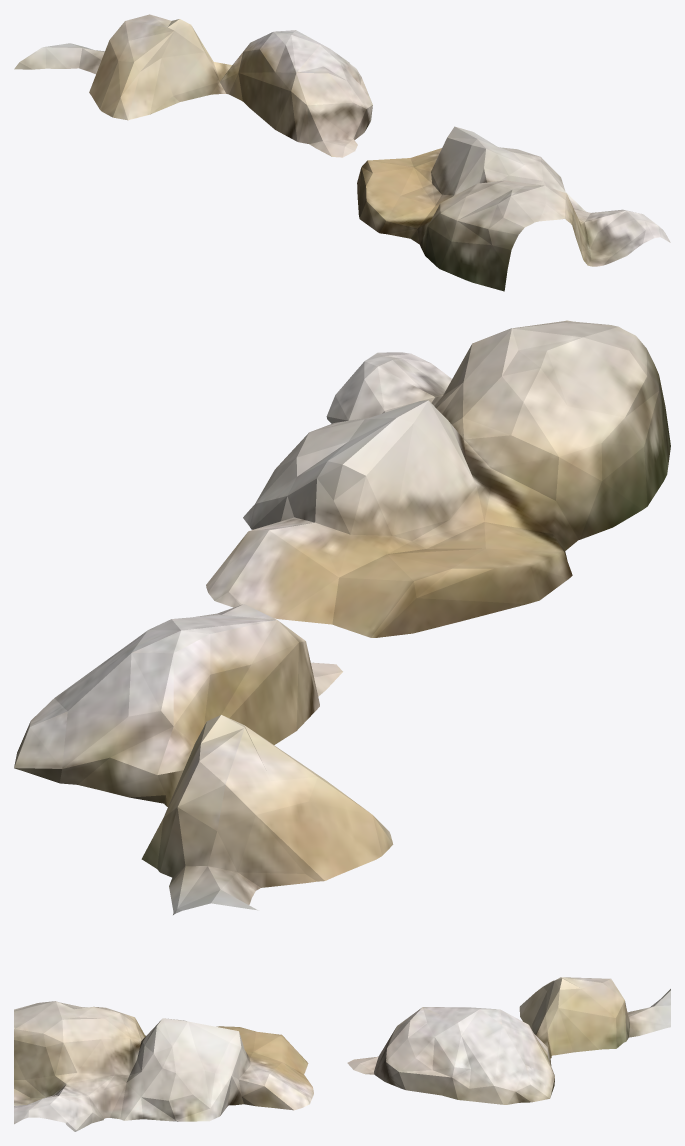
3 renders of one model, top to bottom at view 1: azimuth 30°, elevation 25°; view 2: azimuth 150°, elevation 25°; view 3: azimuth 270°, elevation 25°, orthographic. The views are drawn at different scales.
Size of the model in its own units: 1.49 by 0.3358 by 2.95.
1 material, 1 textured.
